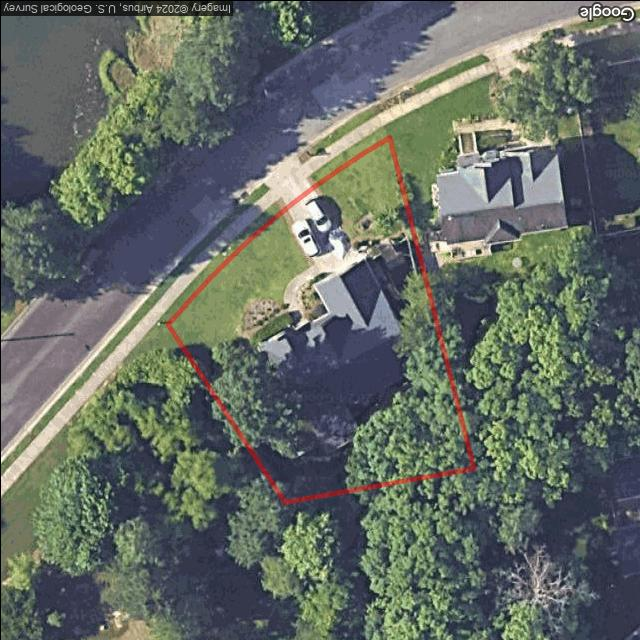Driveway: (279, 186, 361, 277)
Extra-Driveway: (262, 156, 313, 209)
Extra-Lawn: (142, 182, 269, 308), (159, 200, 280, 324), (296, 101, 382, 163), (307, 124, 388, 186)
Extra-Sidewalk: (149, 189, 275, 320), (301, 111, 387, 177)
House: (247, 257, 423, 454)
Lawn: (166, 137, 473, 502)
Other: (352, 223, 417, 312), (238, 298, 297, 345), (297, 272, 328, 322)
Sidewalk: (282, 265, 316, 326)
